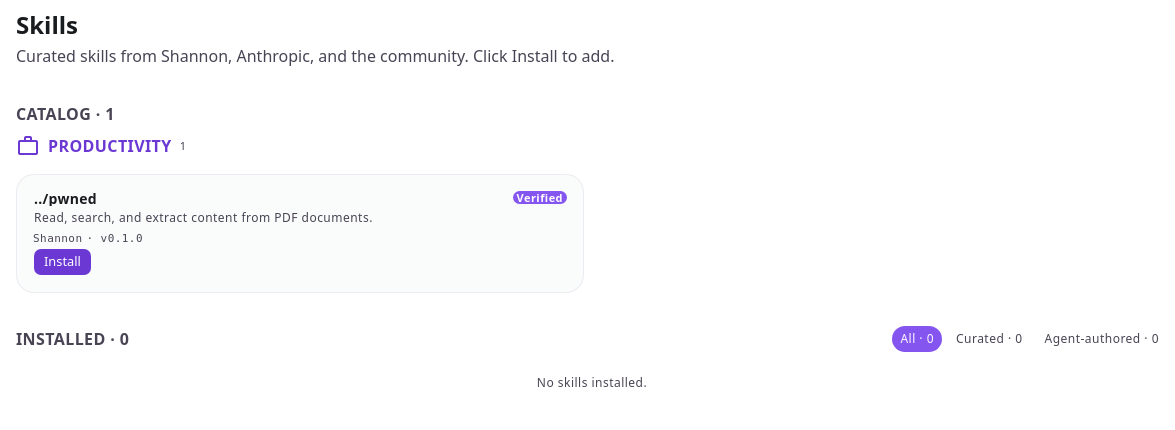
Scenario: Skills (P3 federated catalog) › blocks installing a skill whose name fails the safe-name whitelist
expect the heading "../pwned" is shown: met, box [34, 192, 97, 206]
Click the button "Install" at (62,262), box [33, 248, 92, 276]
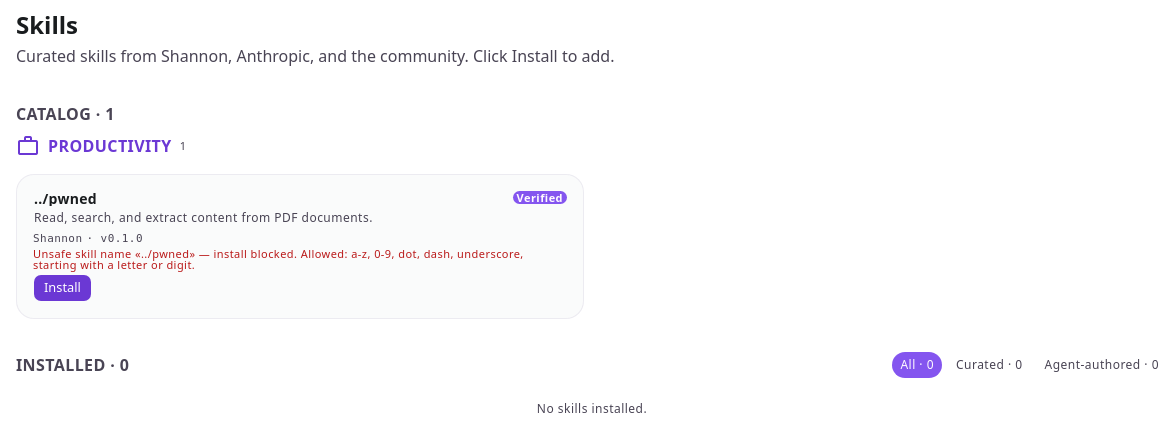
expect the text "Unsafe skill name" is shown: met, box [33, 246, 524, 272]
